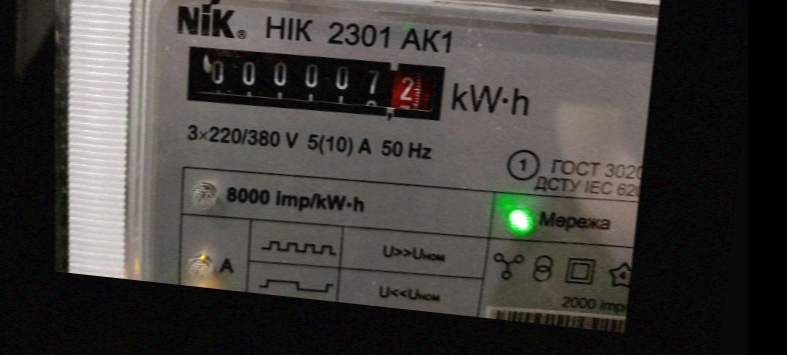0: (270, 55, 289, 85), (207, 53, 226, 82), (301, 58, 320, 86), (332, 60, 350, 89), (239, 55, 257, 83)
2: (397, 72, 415, 100)
7: (363, 62, 381, 94)
screen: (171, 29, 457, 131)
